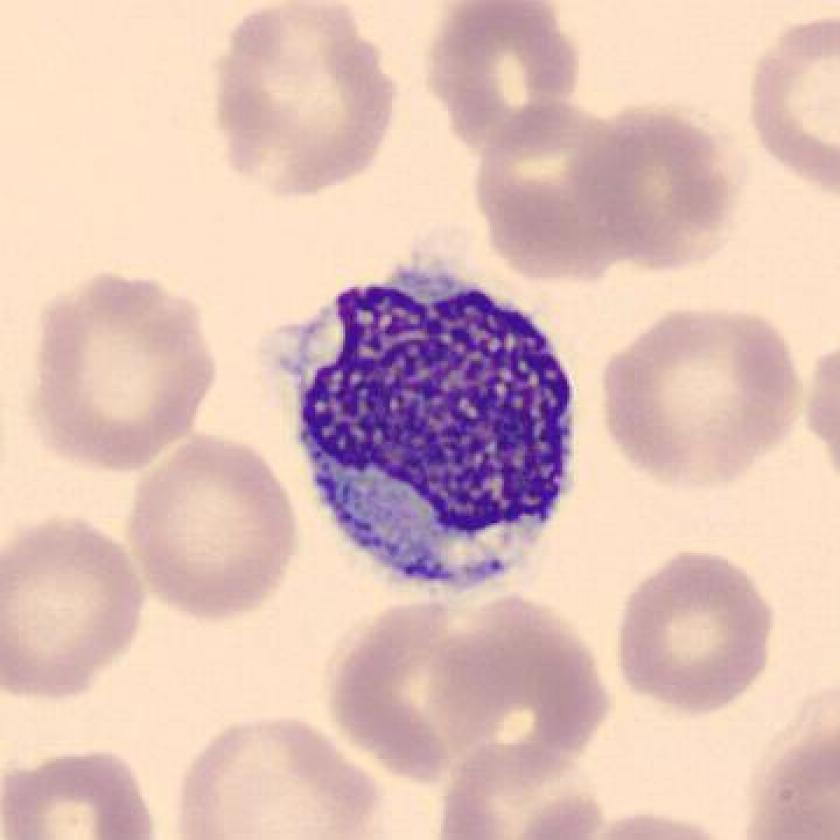monocyte: (258, 221, 594, 612)
